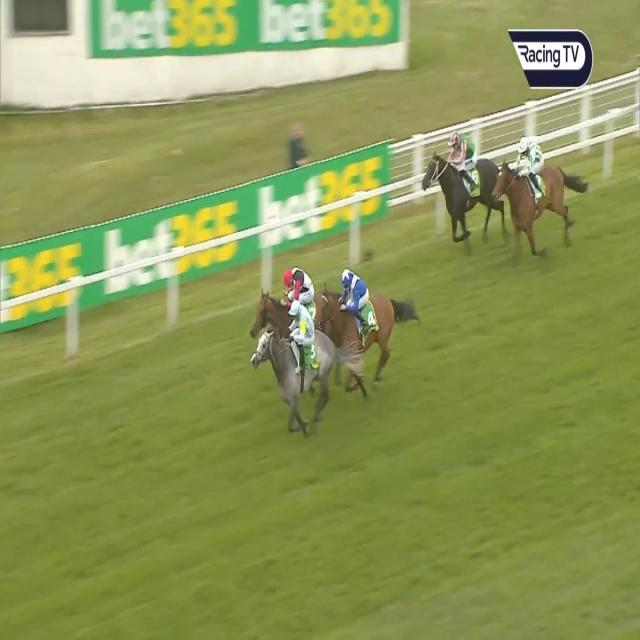horses-racing: (495, 134, 578, 262), (251, 300, 335, 423), (427, 125, 503, 253), (322, 264, 400, 374), (248, 263, 327, 336)
